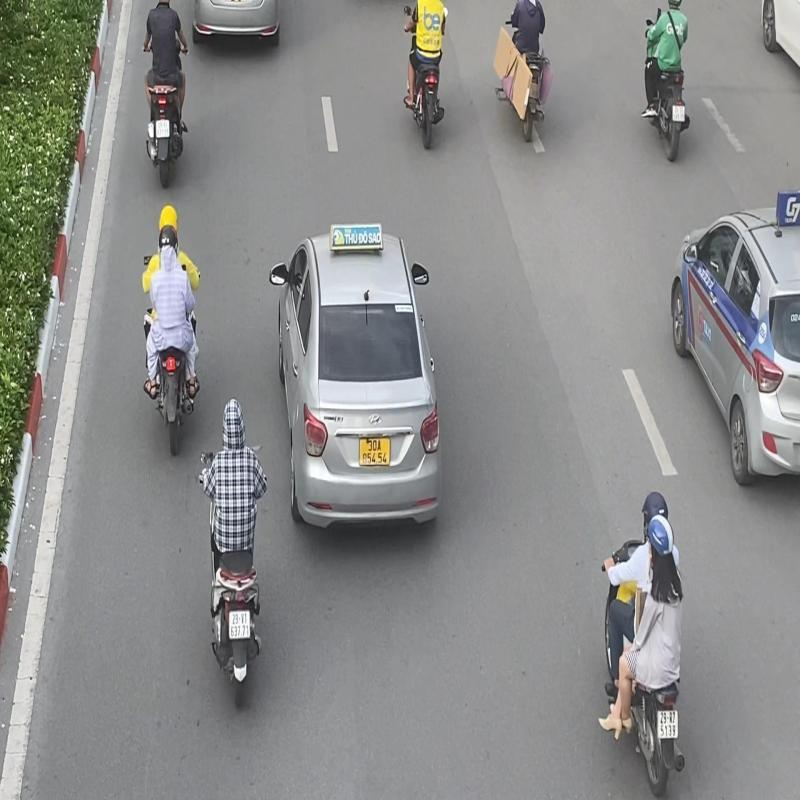helmet: (640, 490, 669, 534), (648, 513, 674, 557)
licenseplate: (229, 608, 251, 640), (657, 710, 678, 738)
motorcyclist: (601, 489, 688, 800)
